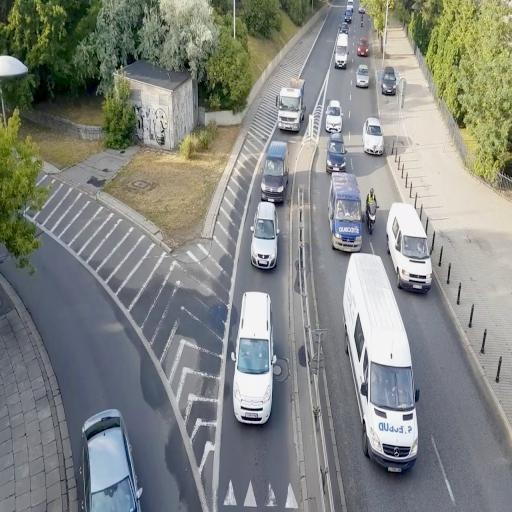vehicle: (343, 251, 420, 472), (78, 409, 143, 512), (386, 202, 433, 294), (329, 170, 363, 252), (250, 202, 278, 272), (261, 140, 288, 204), (277, 80, 307, 136), (262, 140, 288, 204), (362, 117, 384, 157), (326, 135, 347, 172), (363, 188, 379, 234), (325, 99, 342, 134), (381, 68, 398, 96), (356, 64, 370, 88)
